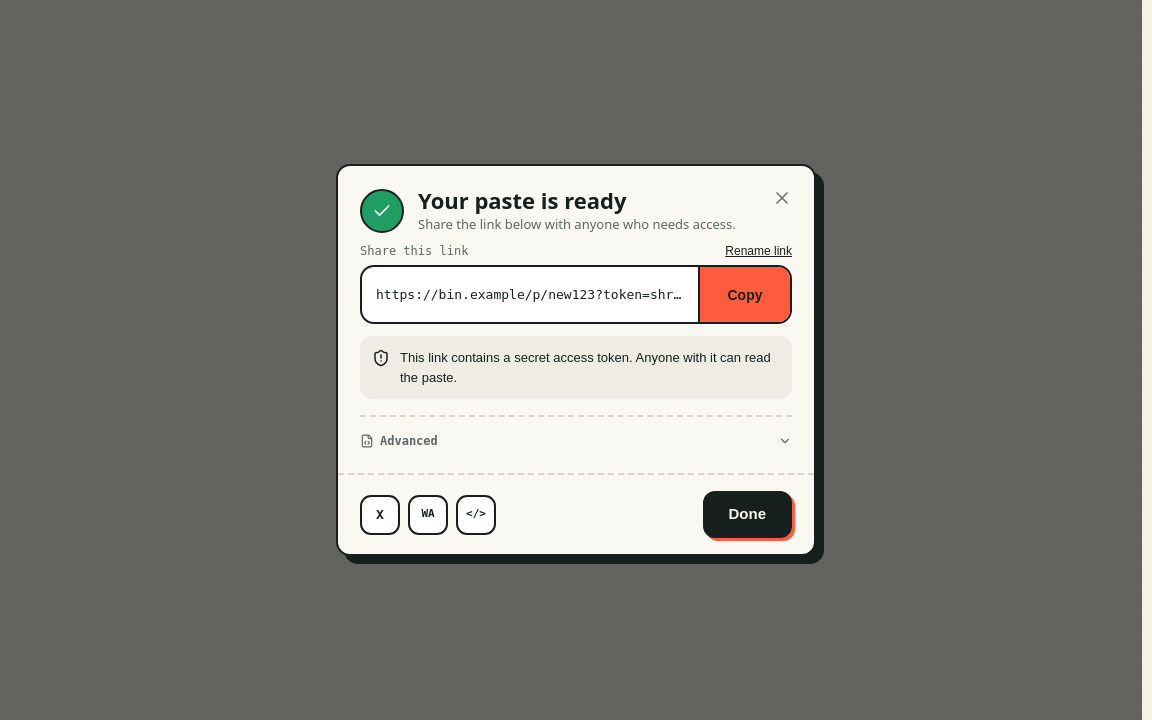
Scenario: Sharing Everywhere UI › MODAL-02: created-paste modal clipboard denial never claims success and announces failure
Click the button "Copy": (744, 295) x1=698 y1=267 x2=790 y2=322
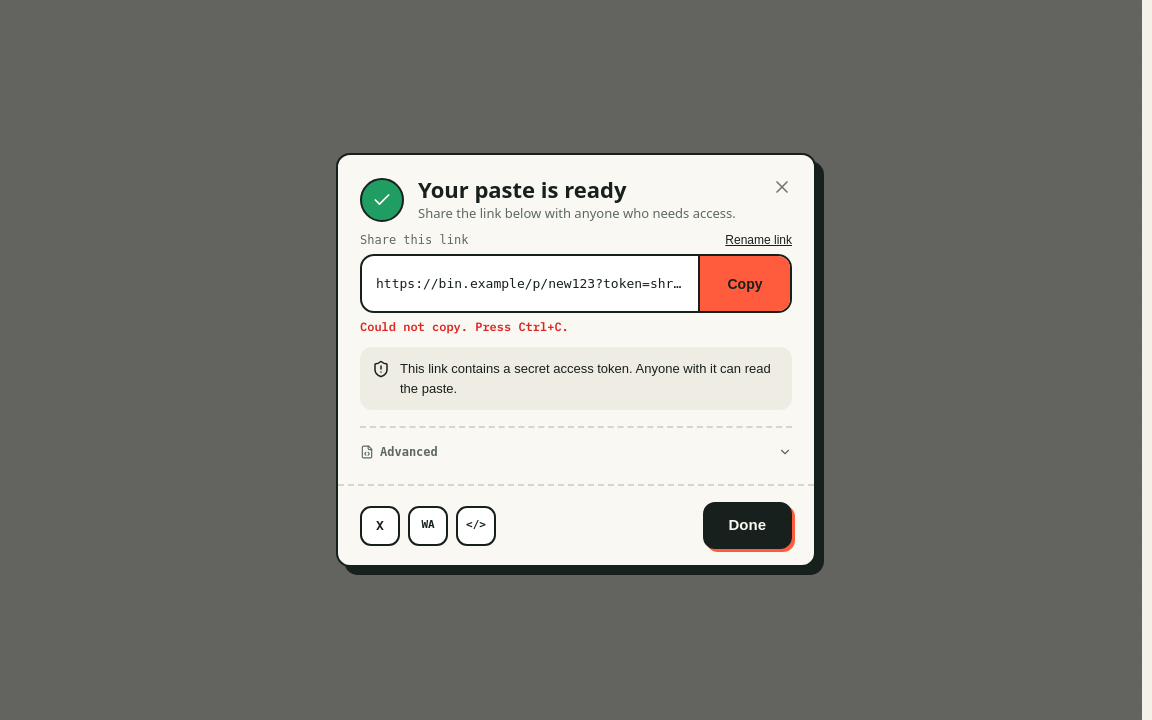
Expected: the message shows "Could not copy", x1=360 y1=319 x2=569 y2=334
